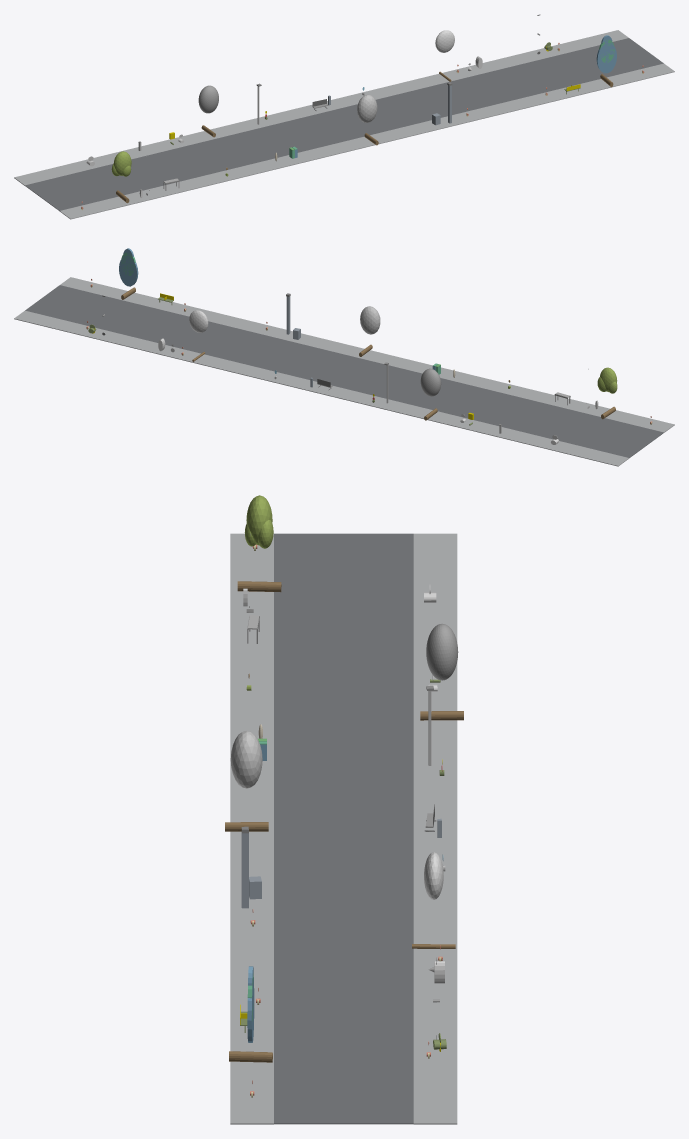
The picture shows the model from 3 angles, top to bottom: view 1: azimuth 30°, elevation 25°; view 2: azimuth 150°, elevation 25°; view 3: azimuth 270°, elevation 25°; orthographic projection. The views are drawn at different scales.
Visible parts, largest first — view 1: road_slab, sidewalk_left, sidewalk_right, inst_0016, inst_0014, inst_0013, inst_0012, inst_0015; view 2: road_slab, sidewalk_right, sidewalk_left, inst_0016, inst_0014, inst_0013, inst_0012, inst_0015; view 3: road_slab, sidewalk_right, sidewalk_left, inst_0014, inst_0013, inst_0012, inst_0016, inst_0015.
Part boxes in pixels (x1,y1,x2,y2): road_slab: (25,38,663,210); sidewalk_left: (59,63,674,219); sidewalk_right: (14,30,628,185); inst_0016: (596,35,616,87); inst_0014: (357,94,378,145); inst_0013: (198,85,218,137); inst_0012: (111,151,131,203); inst_0015: (435,30,454,81); road_slab: (25,285,663,457); sidewalk_right: (14,310,629,466); sidewalk_left: (60,277,674,432); inst_0016: (119,248,138,299); inst_0014: (359,306,380,356); inst_0013: (420,368,441,420); inst_0012: (597,367,617,419); inst_0015: (189,310,208,361); road_slab: (274,533,413,1124); sidewalk_right: (413,533,457,1124); sidewalk_left: (230,533,273,1124); inst_0014: (225,730,268,831); inst_0013: (420,623,463,720); inst_0012: (237,495,281,592); inst_0016: (229,966,272,1062); inst_0015: (412,852,455,948).
Size of the model in its own units: 80 by 6.08 by 13.71.
